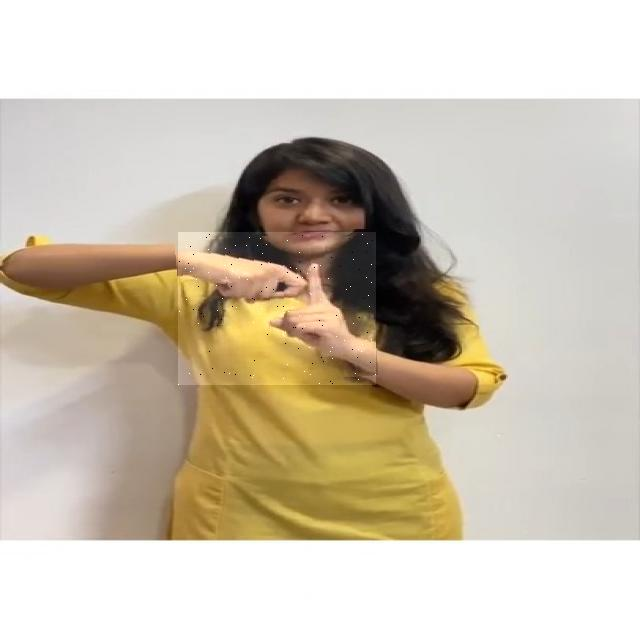K: (178, 232, 376, 385)
